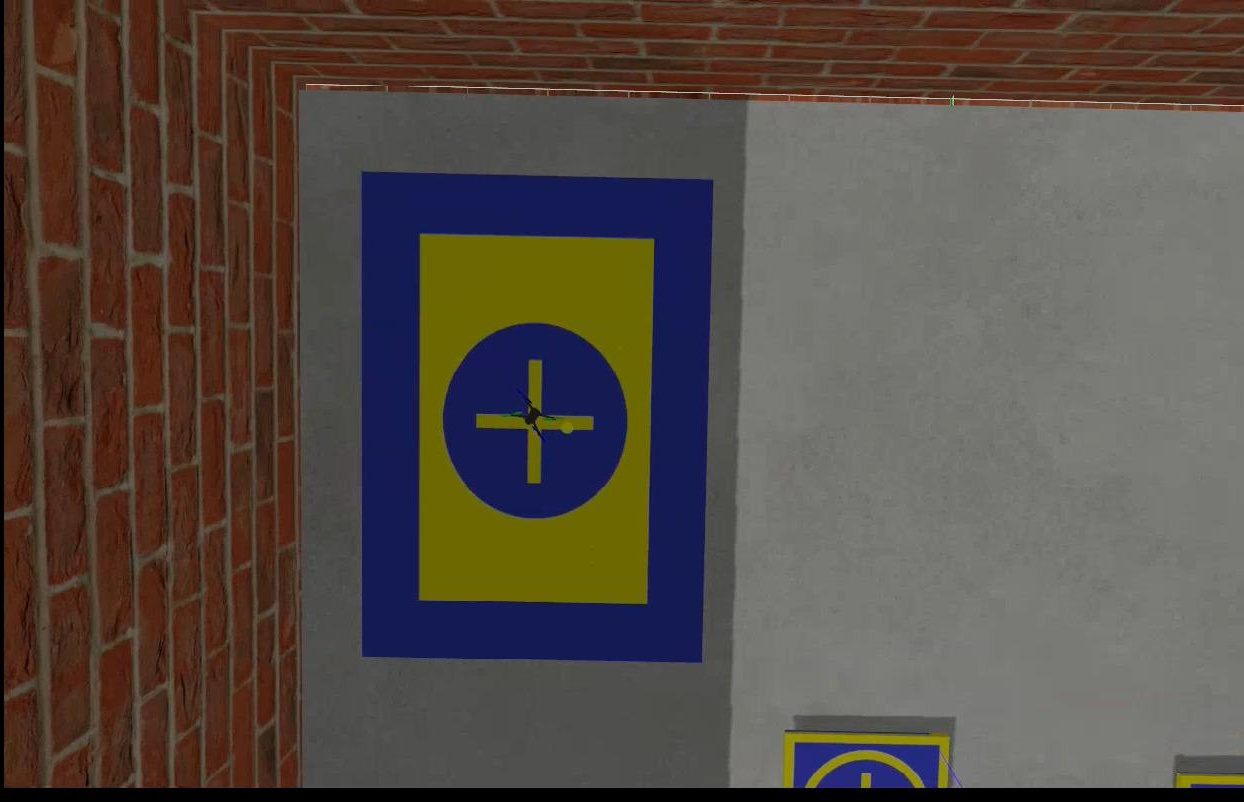large_base: (356, 171, 712, 667)
small_base: (779, 731, 950, 791)
